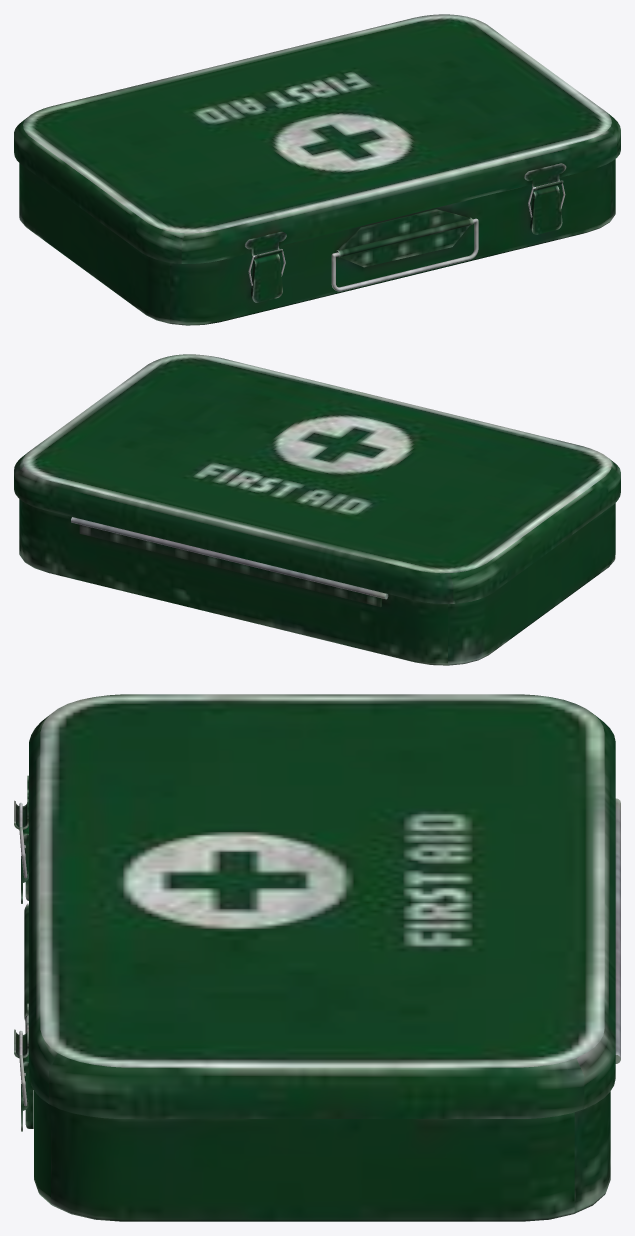
File: medical_box.glb
3 renders of one model, top to bottom at view 1: azimuth 30°, elevation 25°; view 2: azimuth 150°, elevation 25°; view 3: azimuth 270°, elevation 25°, orthographic. The views are drawn at different scales.
Visible parts, largest first — view 1: medical_box_lid, medical_box, medical_box_latch, medical_box_handle; view 2: medical_box_lid, medical_box; view 3: medical_box_lid, medical_box.
Part boxes in pixels (<box>): medical_box_lid: <box>14,14,620,263</box>; medical_box: <box>19,159,615,325</box>; medical_box_latch: <box>251,185,562,302</box>; medical_box_handle: <box>331,218,478,291</box>; medical_box_lid: <box>14,354,620,603</box>; medical_box: <box>19,499,615,665</box>; medical_box_lid: <box>14,694,615,1118</box>; medical_box: <box>24,798,620,1221</box>.
Bounding box in the file's own units: 0.5255 × 0.0975 × 0.3502.
Materials: 1 (1 with a texture image).
